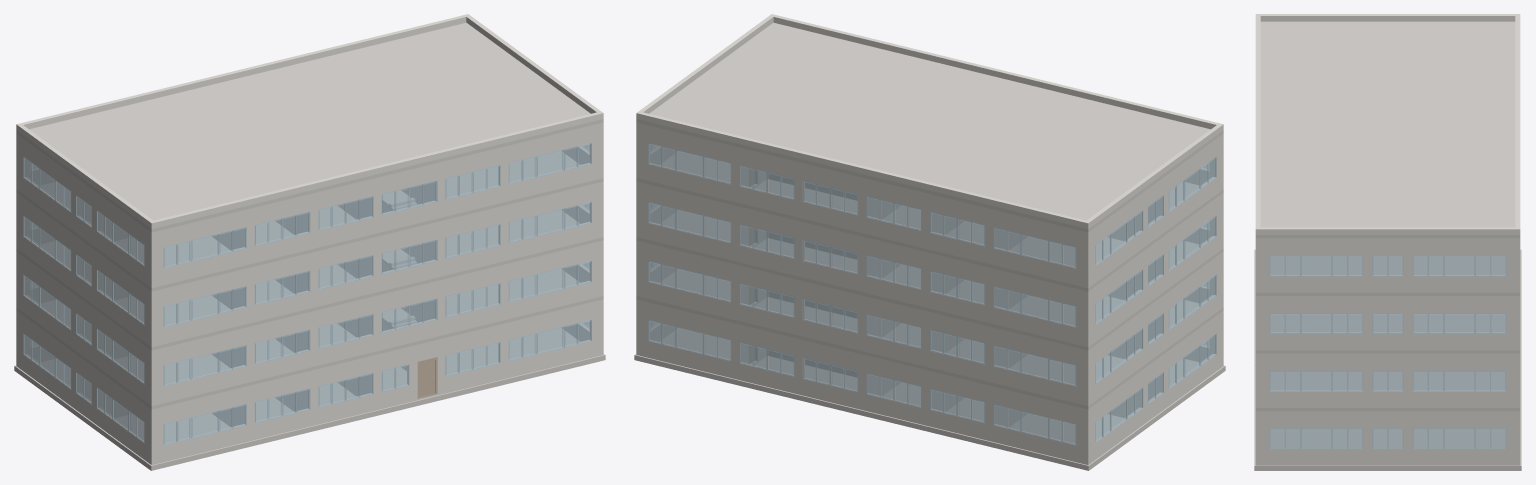
3 renders of one model, left to right at view 1: azimuth 30°, elevation 25°; view 2: azimuth 150°, elevation 25°; view 3: azimuth 270°, elevation 25°, orthographic. The views are drawn at different scales.
Parts seen in each view (by area): view 1: wall, slab, glazing, door; view 2: wall, slab, glazing; view 3: slab, wall, glazing.
Boxes of the visible parts, left/top/right/bottom form: wall: left=16, top=14, right=603, bottom=464; slab: left=14, top=22, right=605, bottom=470; glazing: left=23, top=143, right=591, bottom=445; door: left=404, top=189, right=437, bottom=398; wall: left=636, top=14, right=1223, bottom=464; slab: left=634, top=22, right=1225, bottom=470; glazing: left=648, top=143, right=1216, bottom=445; slab: left=1254, top=21, right=1521, bottom=470; wall: left=1255, top=14, right=1520, bottom=465; glazing: left=1269, top=255, right=1506, bottom=449.
Size of the model in its own units: 28.63 by 14.86 by 14.93.
